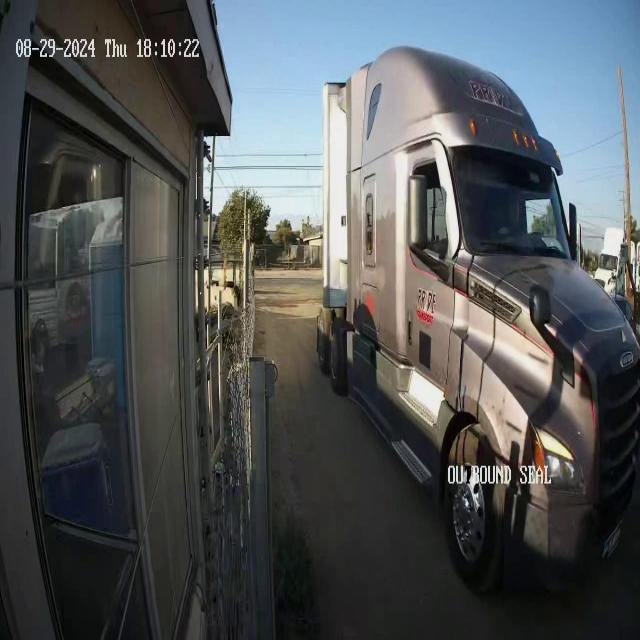CONTAINER: (320, 73, 356, 318)
